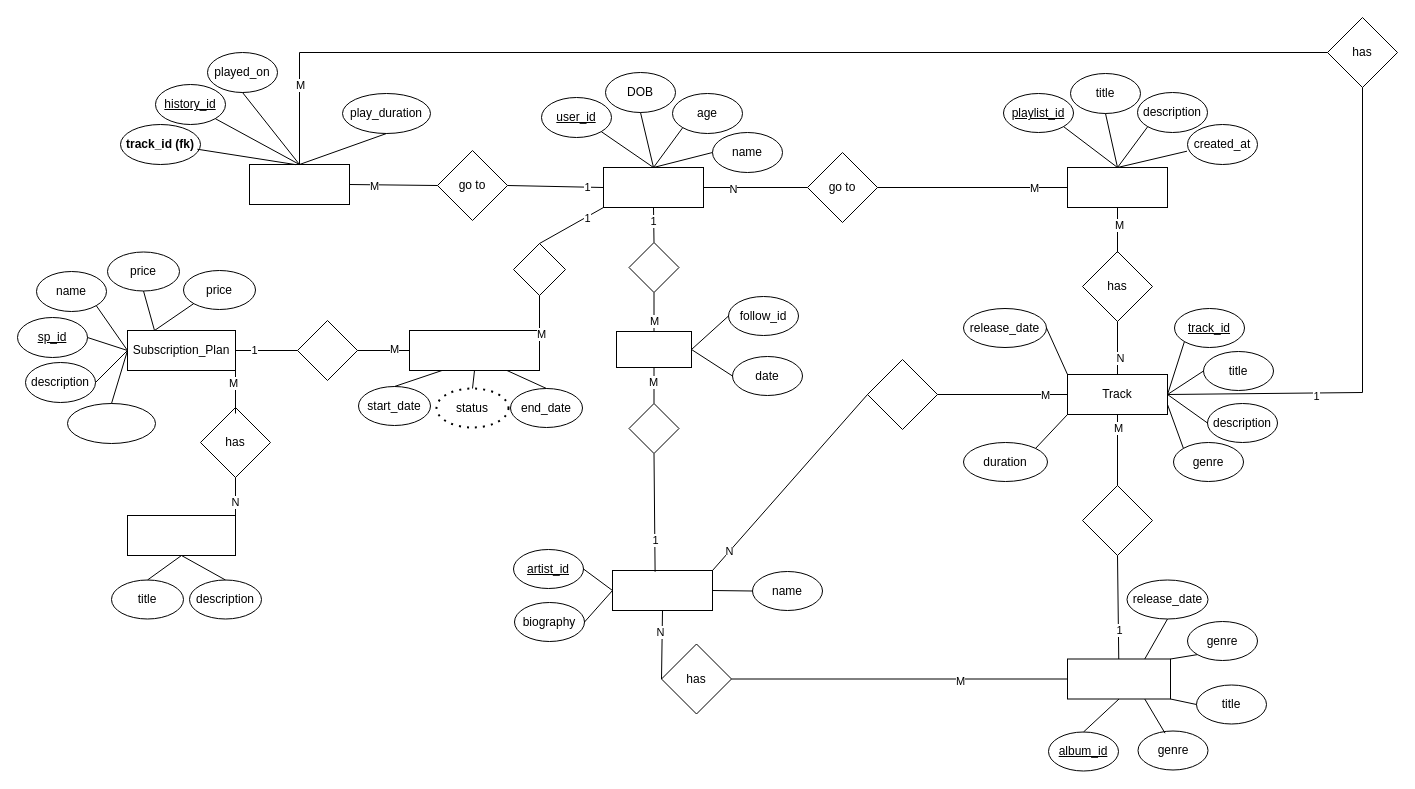
Image size: 1415x789. Some labels were removed from this diagram. Each missing label, with the centre of its shape:
"Album" belongs at point 1118,678.
"artist" belongs at point 662,590.
"artist_track" belongs at point 902,394.
"duration_days" belongs at point 111,423.
"follow" belongs at point 654,349.
"includes" belongs at point 1117,520.
"Listening_History" belongs at point 299,184.
"Plan_Feature" belongs at point 181,535.
"Playlist" belongs at point 1117,187.
"User" belongs at point 653,187.
"User_Subscription" belongs at point 474,350.
